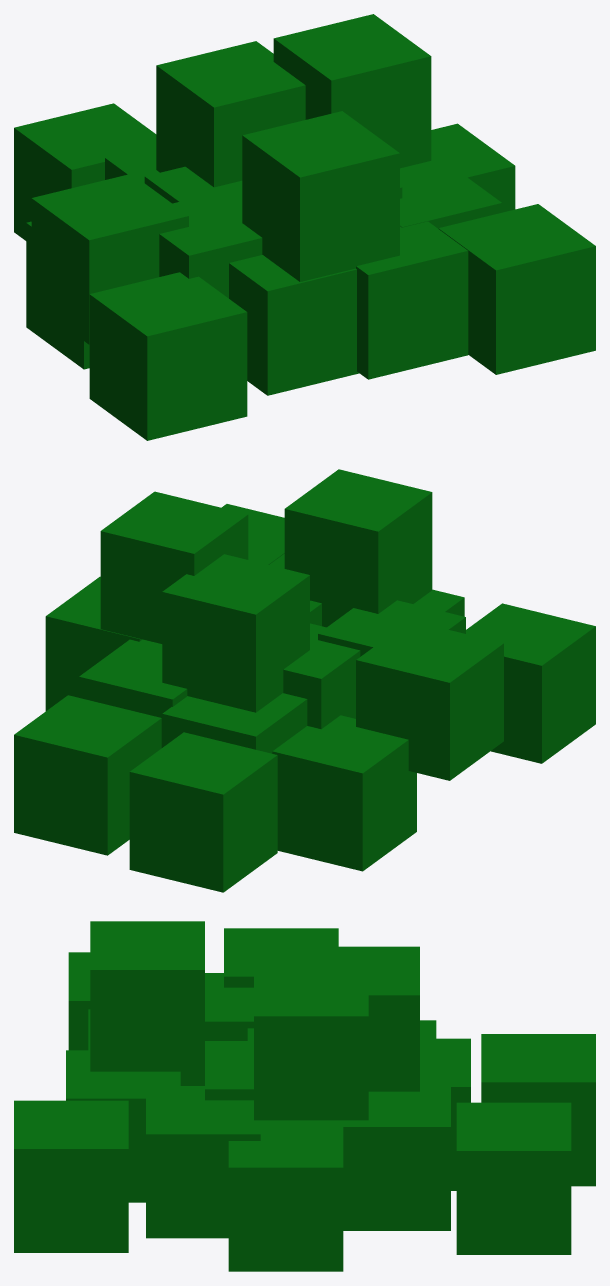
The model's file is cucumber.fbx.
The picture shows the model from 3 angles, top to bottom: view 1: azimuth 30°, elevation 25°; view 2: azimuth 150°, elevation 25°; view 3: azimuth 270°, elevation 25°; orthographic projection. The views are drawn at different scales.
Visible parts, largest first — view 1: Cube; view 2: Cube; view 3: Cube.
Part boxes in pixels (<box>): Cube: <box>14,14,595,440</box>; Cube: <box>14,469,595,892</box>; Cube: <box>14,921,595,1271</box>.
Size of the model in its own units: 224 by 125 by 254.
